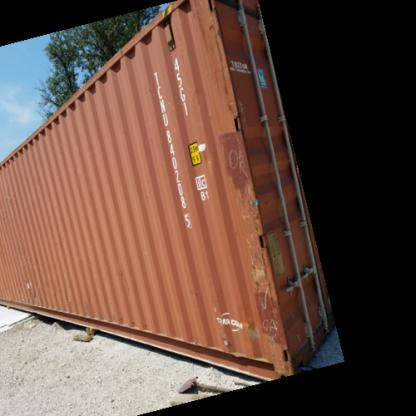Damage: (223, 127, 290, 359), (115, 256, 138, 296), (19, 278, 47, 310)
